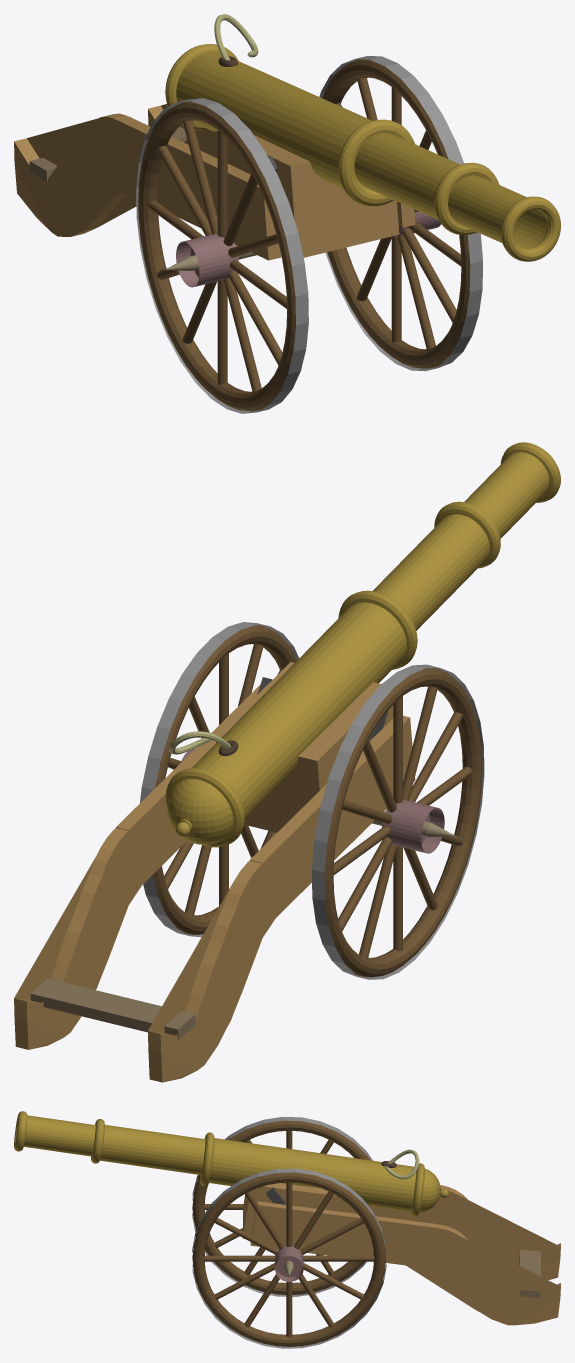
File: Cañon v1.dae
3 renders of one model, top to bottom at view 1: azimuth 30°, elevation 25°; view 2: azimuth 150°, elevation 25°; view 3: azimuth 270°, elevation 25°, orthographic. The views are drawn at different scales.
Parts seen in each view (by area): view 1: Rueda_Derecha, Canon, Base, Rueda_Izquierda, Mecha; view 2: Base, Canon, Rueda_Derecha, Rueda_Izquierda; view 3: Base, Canon, Rueda_Izquierda, Rueda_Derecha, Mecha.
Part boxes in pixels (x1,y1,x2,y2): Rueda_Derecha: (136,98,308,413); Canon: (165,44,560,261); Base: (14,104,415,260); Rueda_Izquierda: (319,55,482,371); Mecha: (214,14,258,60); Base: (14,662,415,1082); Canon: (165,442,560,847); Rueda_Derecha: (311,664,484,979); Rueda_Izquierda: (140,622,299,937); Base: (243,1183,560,1325); Canon: (14,1111,448,1216); Rueda_Izquierda: (192,1168,386,1348); Rueda_Derecha: (192,1117,372,1296); Mecha: (384,1149,419,1179).
Bounding box in the file's own units: 2.25 × 6.03 × 2.53.
